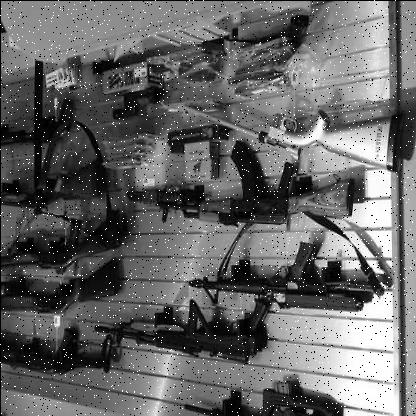rifle: (116, 143, 368, 243), (171, 79, 405, 173), (168, 243, 380, 321), (86, 293, 286, 366), (0, 317, 110, 396), (1, 211, 131, 276), (1, 257, 123, 319), (1, 174, 105, 212)
